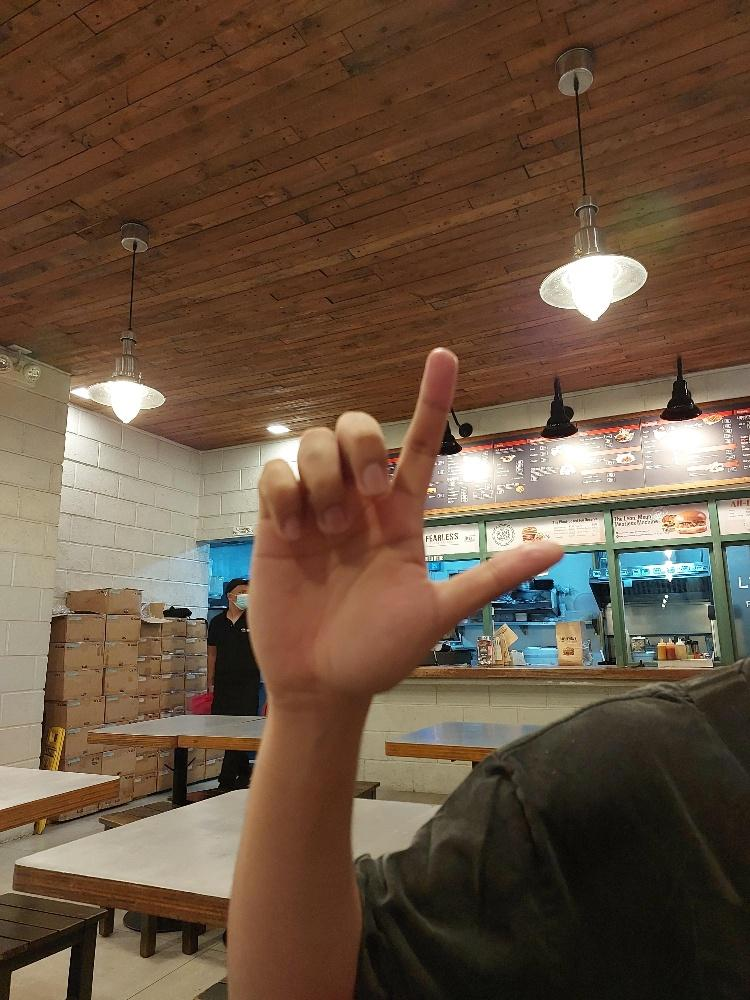l: (245, 344, 565, 711)
